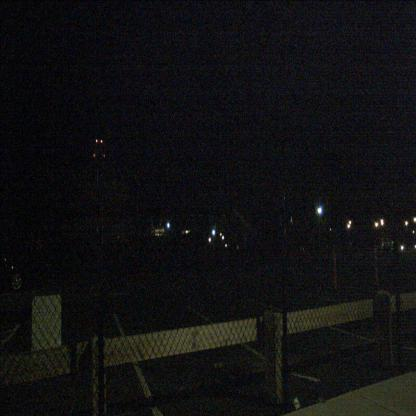cone: (372, 240, 381, 288), (332, 244, 340, 293)
